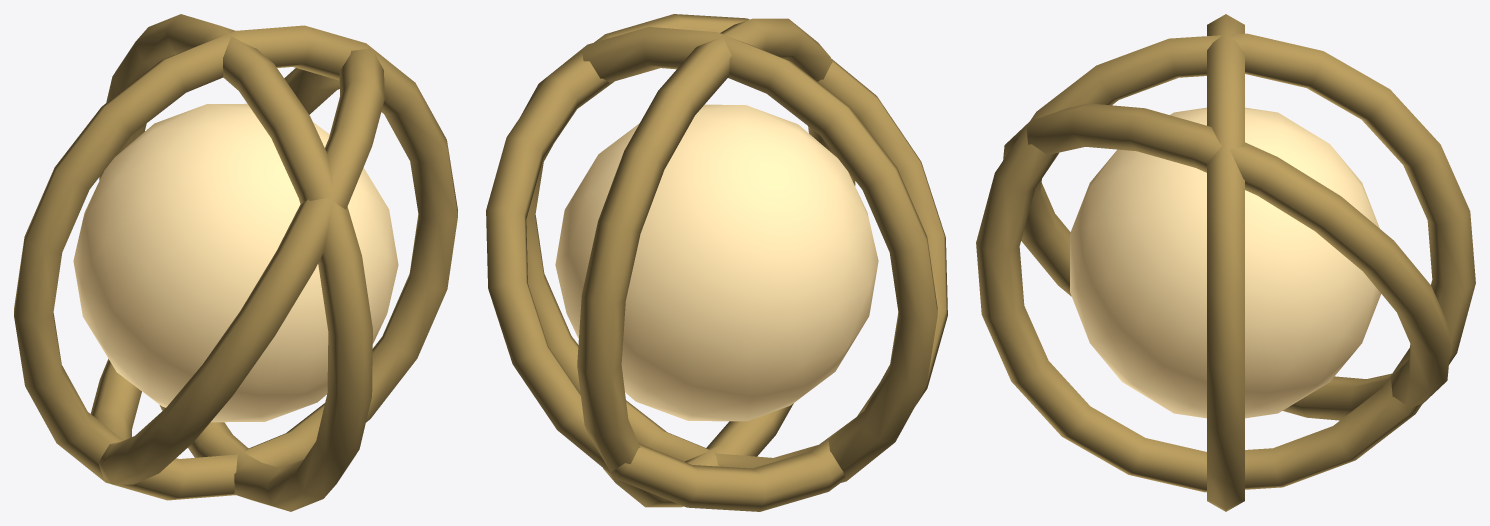
Rendered from pearl-core.glb.
The picture shows the model from 3 angles, left to right: view 1: azimuth 30°, elevation 25°; view 2: azimuth 150°, elevation 25°; view 3: azimuth 270°, elevation 25°; orthographic projection. The views are drawn at different scales.
Size of the model in its own units: 0.504 by 0.504 by 0.5022.
